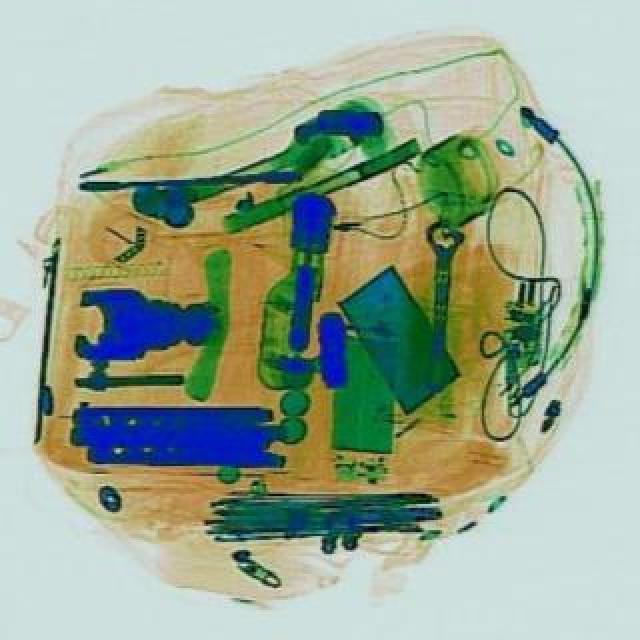scissors: (412, 218, 464, 392)
